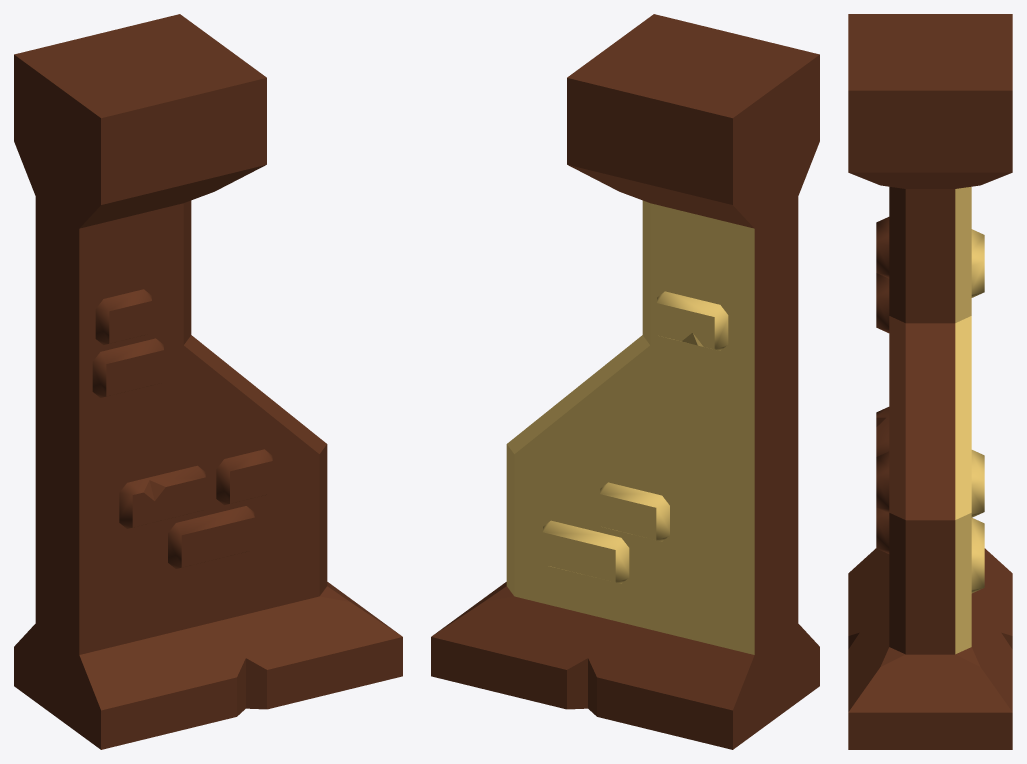
The model's file is wall_half_end.fbx.
The picture shows the model from 3 angles, left to right: view 1: azimuth 30°, elevation 25°; view 2: azimuth 150°, elevation 25°; view 3: azimuth 270°, elevation 25°; orthographic projection. The views are drawn at different scales.
Parts seen in each view (by area): view 1: wall_half_endcap_sloped; view 2: wall_half_endcap_sloped; view 3: wall_half_endcap_sloped.
Part boxes in pixels (box(x1,y1,x2,y2)): wall_half_endcap_sloped: box(14, 14, 402, 749); wall_half_endcap_sloped: box(431, 14, 819, 749); wall_half_endcap_sloped: box(848, 14, 1012, 749).
Size of the model in its own units: 200 by 400 by 100.
